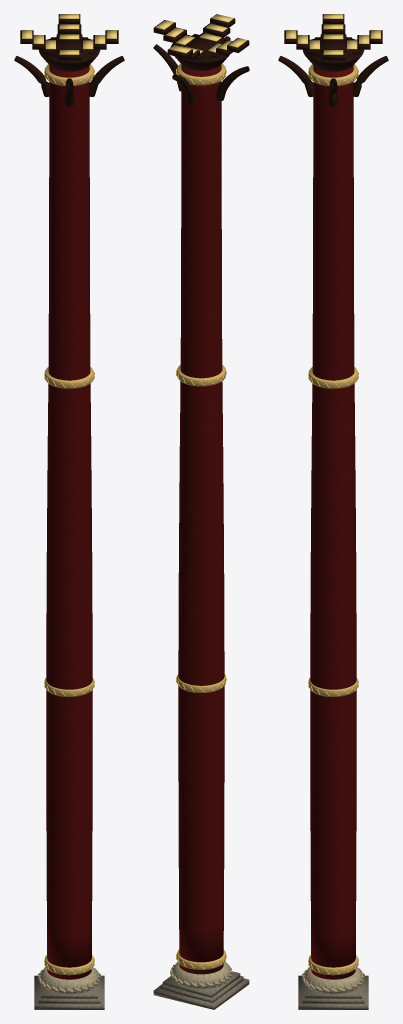
3 views of the same model, side by side, from view 1: azimuth 90°, elevation 25°; view 2: azimuth 150°, elevation 25°; view 3: azimuth 270°, elevation 25° (orthographic).
Parts seen in each view (by area): view 1: vb-sanctuary-giant-column__Lacquer - imperial oxblood, vb-sanctuary-giant-column__Lim wood - deep umber, vb-sanctuary-giant-column__Antique gilded bronze, vb-sanctuary-giant-column__Granite - warm grey, vb-sanctuary-giant-column__Gold leaf, vb-sanctuary-giant-column__Carved stone - pale; view 2: vb-sanctuary-giant-column__Lacquer - imperial oxblood, vb-sanctuary-giant-column__Lim wood - deep umber, vb-sanctuary-giant-column__Antique gilded bronze, vb-sanctuary-giant-column__Granite - warm grey, vb-sanctuary-giant-column__Gold leaf, vb-sanctuary-giant-column__Carved stone - pale; view 3: vb-sanctuary-giant-column__Lacquer - imperial oxblood, vb-sanctuary-giant-column__Lim wood - deep umber, vb-sanctuary-giant-column__Antique gilded bronze, vb-sanctuary-giant-column__Granite - warm grey, vb-sanctuary-giant-column__Gold leaf, vb-sanctuary-giant-column__Carved stone - pale.
Boxes of the visible parts, x1,y1,x2,y2 form: vb-sanctuary-giant-column__Lacquer - imperial oxblood: (46, 65, 92, 979); vb-sanctuary-giant-column__Lim wood - deep umber: (14, 14, 124, 106); vb-sanctuary-giant-column__Antique gilded bronze: (45, 64, 93, 975); vb-sanctuary-giant-column__Granite - warm grey: (34, 973, 104, 1009); vb-sanctuary-giant-column__Gold leaf: (22, 14, 116, 974); vb-sanctuary-giant-column__Carved stone - pale: (38, 967, 100, 994); vb-sanctuary-giant-column__Lacquer - imperial oxblood: (178, 65, 224, 974); vb-sanctuary-giant-column__Lim wood - deep umber: (153, 14, 249, 104); vb-sanctuary-giant-column__Antique gilded bronze: (177, 63, 225, 969); vb-sanctuary-giant-column__Granite - warm grey: (153, 971, 249, 1009); vb-sanctuary-giant-column__Gold leaf: (155, 14, 247, 968); vb-sanctuary-giant-column__Carved stone - pale: (170, 962, 232, 988); vb-sanctuary-giant-column__Lacquer - imperial oxblood: (310, 65, 356, 979); vb-sanctuary-giant-column__Lim wood - deep umber: (278, 14, 388, 106); vb-sanctuary-giant-column__Antique gilded bronze: (309, 64, 357, 975); vb-sanctuary-giant-column__Granite - warm grey: (298, 973, 368, 1009); vb-sanctuary-giant-column__Gold leaf: (286, 14, 380, 974); vb-sanctuary-giant-column__Carved stone - pale: (302, 967, 364, 994).
Bounding box in the file's own units: 10.65 × 102 × 10.65.
Materials: 6 (4 with a texture image).
